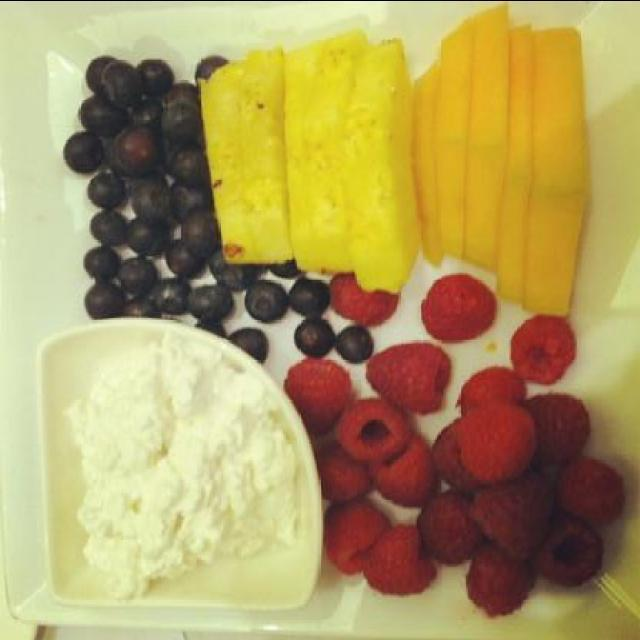Cheese: (58, 331, 296, 607)
